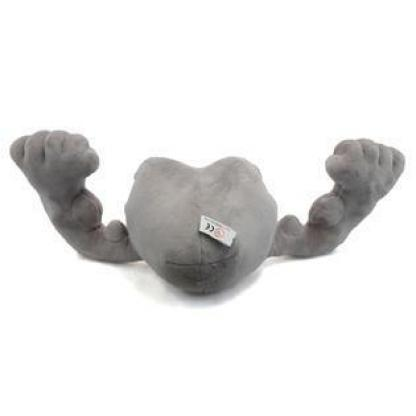Geodude: (1, 1, 416, 407)
